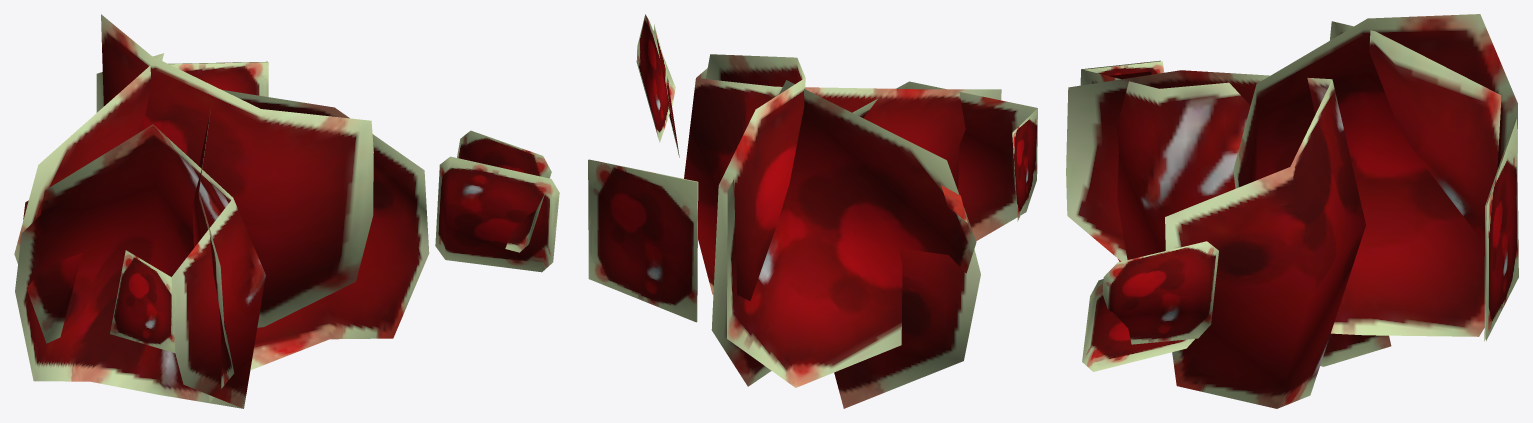
Rendered from Zombie_Broken_Clown_Body_db919f82__Zombie_Broken_Green_0_bb717ba8_c1f257.obj.
The picture shows the model from 3 angles, left to right: view 1: azimuth 30°, elevation 25°; view 2: azimuth 150°, elevation 25°; view 3: azimuth 270°, elevation 25°; orthographic projection. The views are drawn at different scales.
Size of the model in its own units: 0.7949 by 0.5612 by 0.6404.
Materials: 1 (1 with a texture image).
